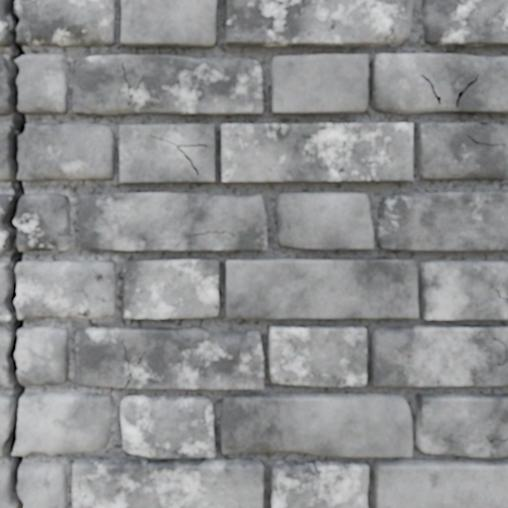brick: (221, 393, 411, 456), (226, 259, 417, 318), (76, 328, 263, 388), (73, 55, 262, 114), (221, 124, 412, 181), (79, 193, 266, 249), (73, 459, 262, 507), (226, 0, 412, 46), (370, 325, 507, 385), (370, 54, 507, 113), (378, 193, 507, 249), (375, 460, 507, 507), (269, 326, 365, 386), (416, 394, 507, 457), (121, 396, 214, 457), (271, 55, 367, 113), (124, 259, 218, 318), (276, 193, 373, 248), (120, 125, 213, 182), (420, 261, 507, 319), (417, 123, 507, 179), (271, 461, 367, 507), (121, 0, 215, 46), (422, 0, 507, 45)
broken_brick: (14, 392, 113, 456), (16, 259, 116, 320), (19, 122, 116, 181), (16, 0, 115, 47), (15, 193, 70, 251), (16, 326, 69, 386), (18, 54, 68, 114), (18, 462, 67, 507), (0, 55, 12, 116), (0, 393, 11, 457), (0, 261, 11, 321), (0, 327, 11, 386), (0, 124, 10, 181), (0, 463, 11, 507), (0, 0, 9, 47), (0, 193, 12, 220), (0, 225, 6, 252)
crack: (0, 0, 27, 507), (121, 338, 145, 388), (492, 336, 507, 366), (490, 283, 507, 302), (486, 436, 507, 443), (480, 122, 487, 125), (72, 490, 77, 493)
